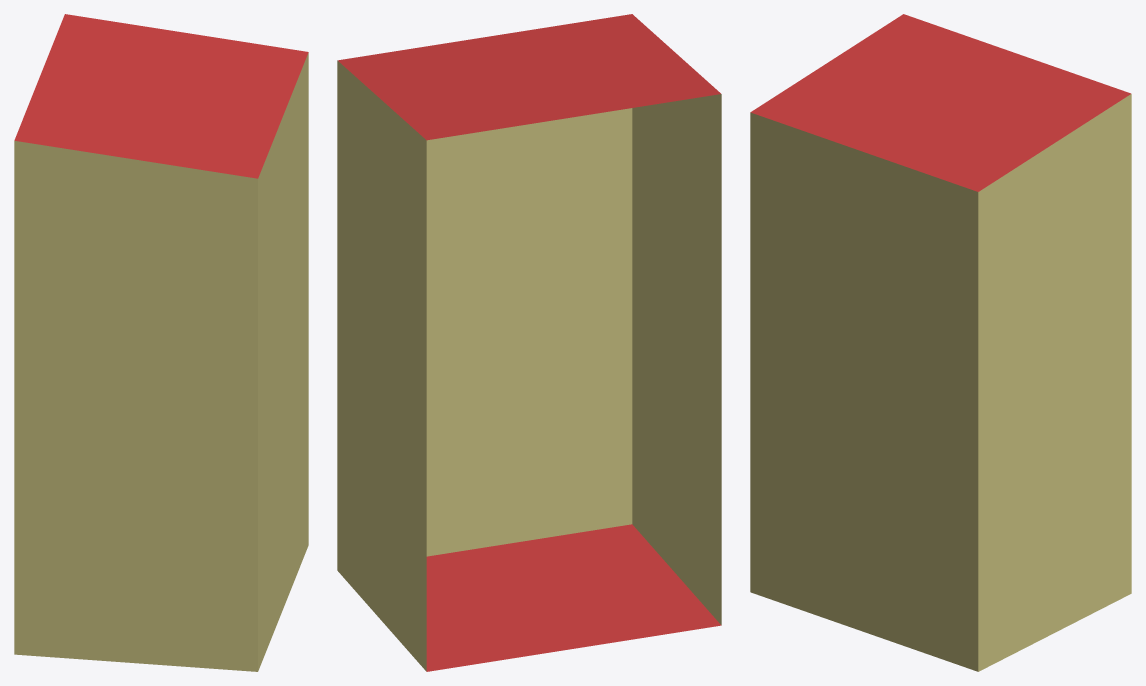
The picture shows the model from 3 angles, left to right: view 1: azimuth 30°, elevation 25°; view 2: azimuth 150°, elevation 25°; view 3: azimuth 270°, elevation 25°; orthographic projection. The views are drawn at different scales.
Size of the model in its own units: 7.64 by 7.79 by 11.27.
